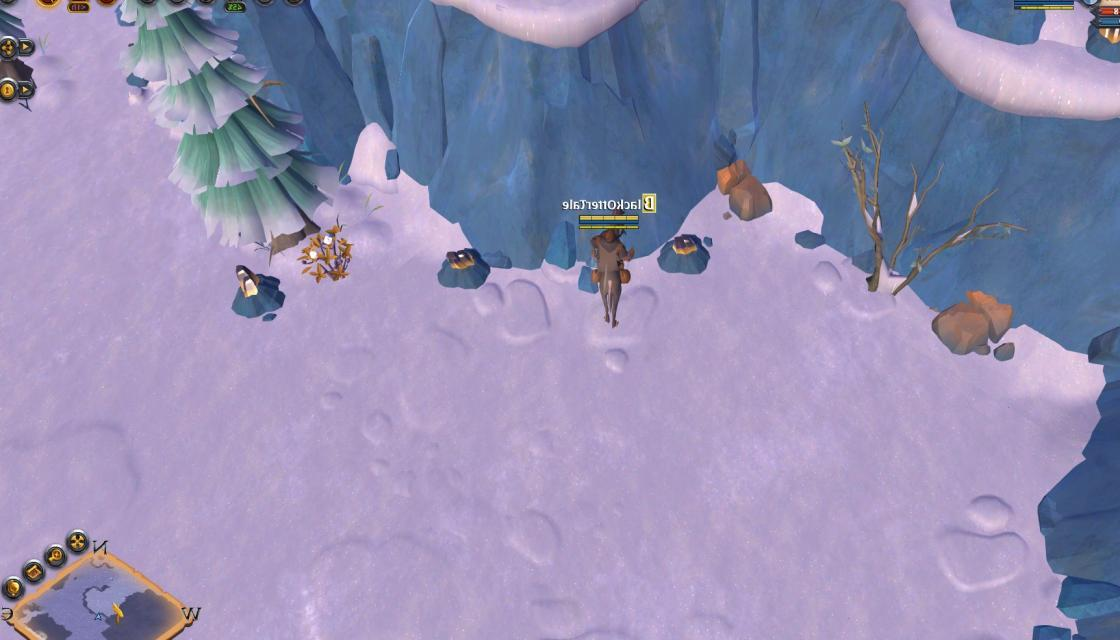copperore: (224, 259, 291, 323), (433, 238, 491, 290), (654, 229, 715, 275)
limestone: (928, 286, 1016, 365), (713, 155, 780, 223)
